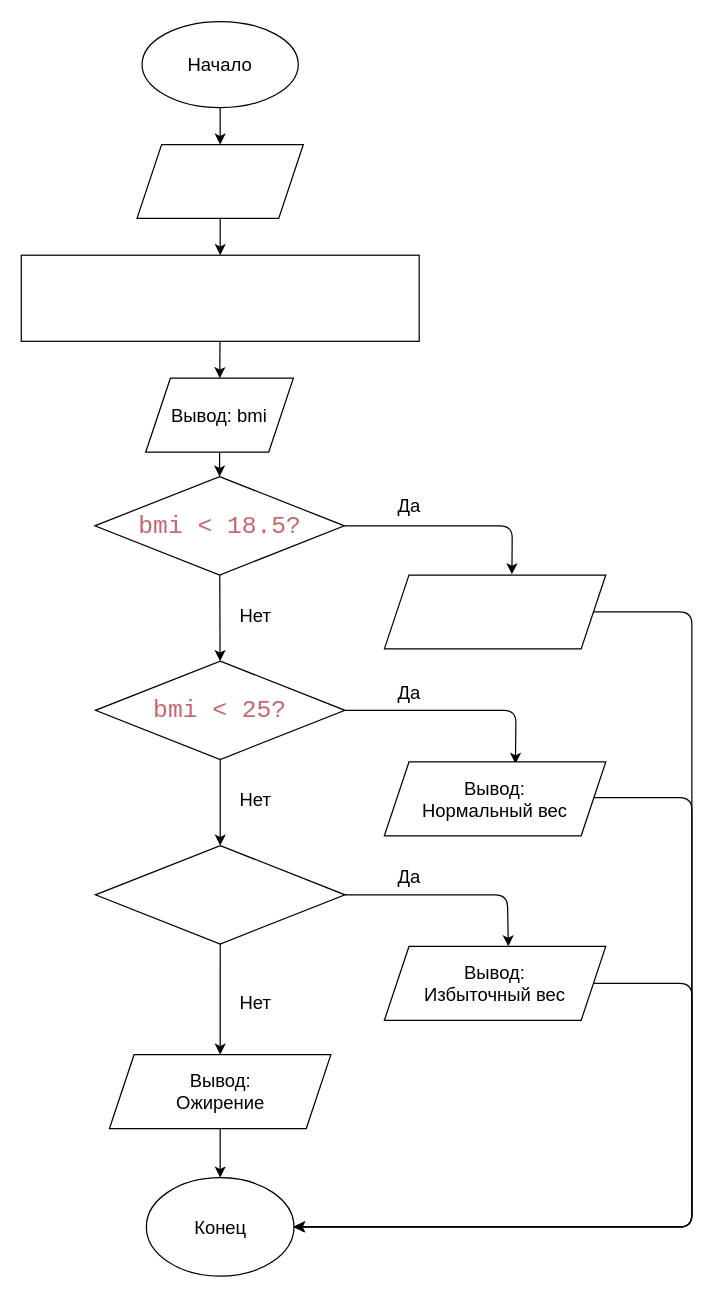
This 724x1298 diagram has some shape labels left out. The shapes that lost their labels are listed below. From the top down, each one's centre as x and y in pixels, then its label:
At (x=219, y=180): "Ввод: weight (масса), height (рост)".
At (x=219, y=297): "bmi = weight / ( (height / 100) * (height / 100) ) )".
At (x=494, y=611): "Вывод: Недостаточный вес".
At (x=219, y=894): "bmi < 30?".
